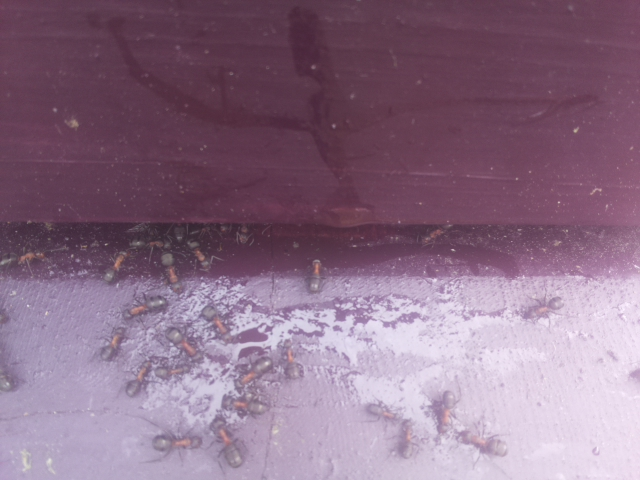ant: (92, 230, 151, 293), (424, 381, 468, 442), (160, 314, 205, 369), (210, 417, 248, 475), (450, 427, 514, 460), (122, 351, 161, 405), (234, 349, 278, 391), (117, 290, 173, 321), (97, 318, 133, 366), (517, 291, 570, 323), (195, 302, 235, 344), (145, 430, 209, 456), (278, 334, 306, 390), (157, 246, 185, 299), (183, 233, 213, 275), (304, 254, 331, 298), (226, 396, 272, 416), (365, 403, 402, 423)
